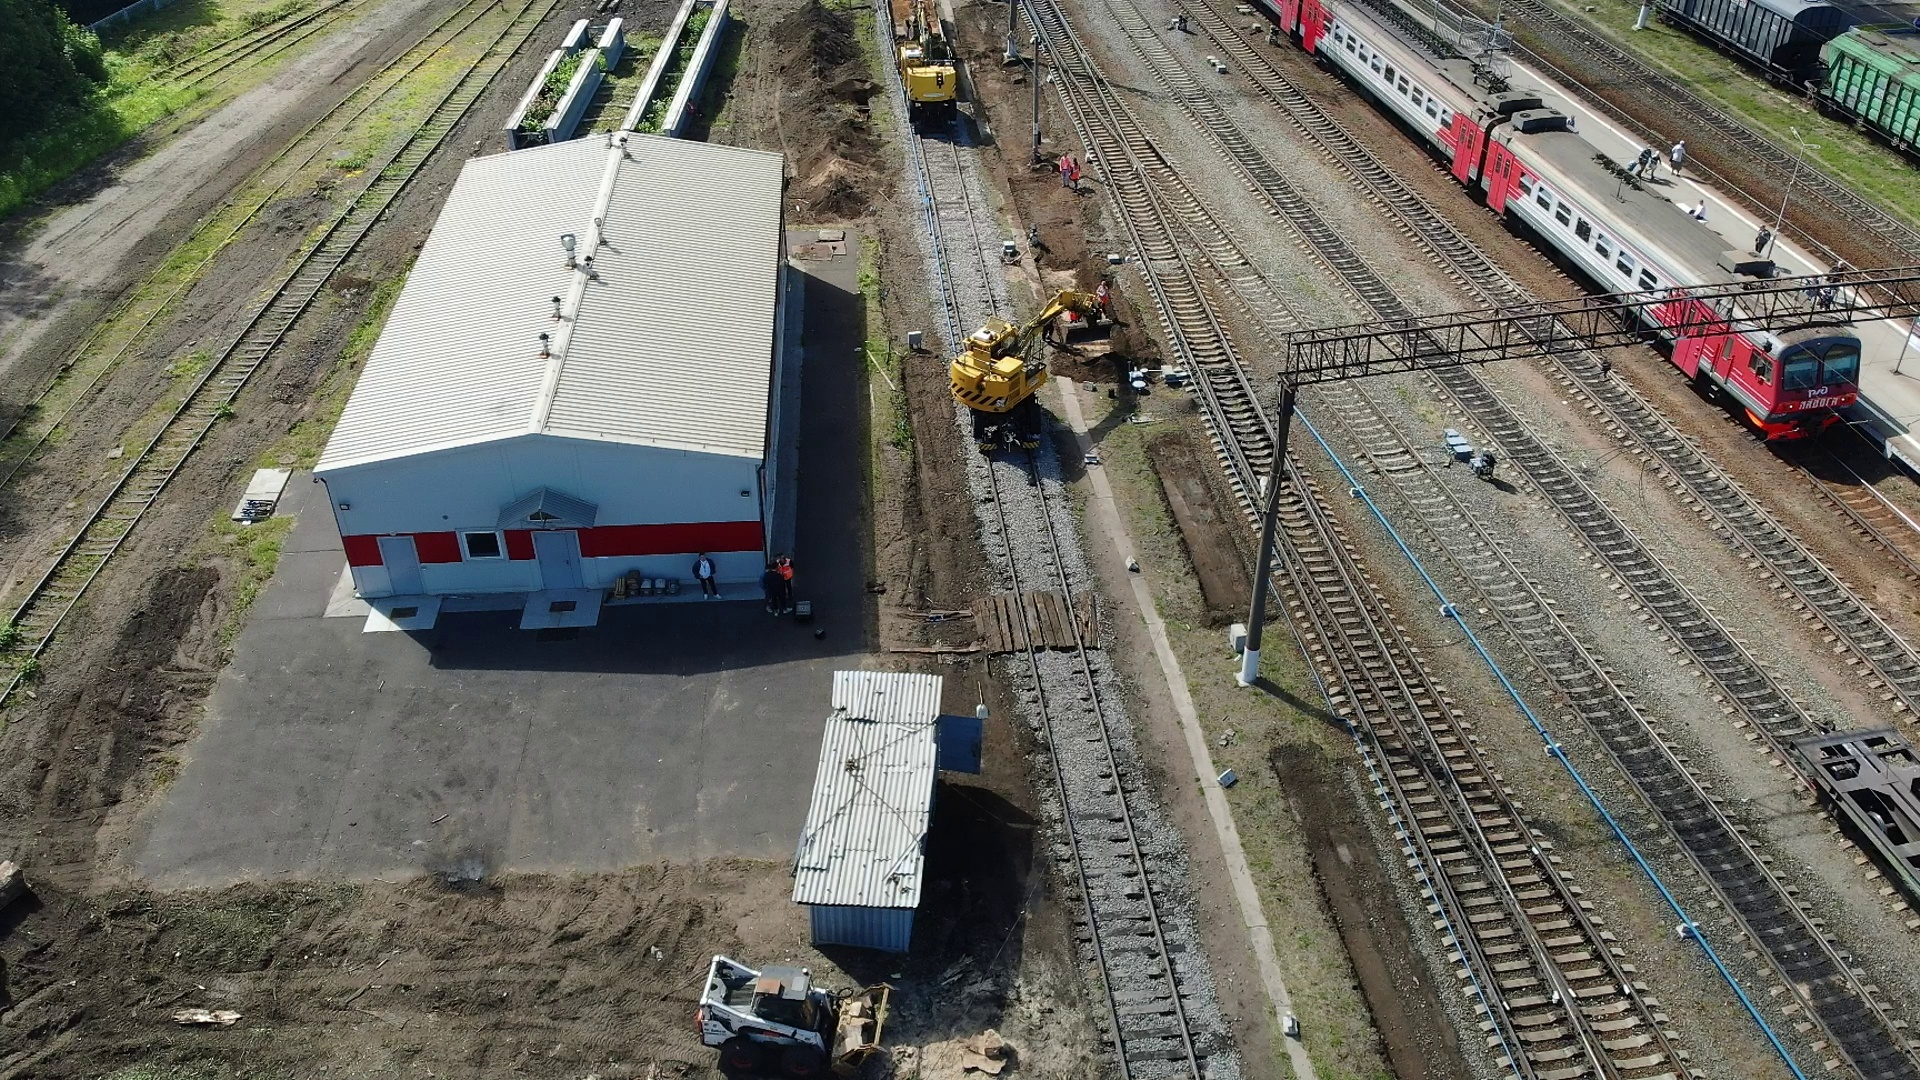kjtv: (957, 313, 1060, 454), (897, 44, 973, 135)
